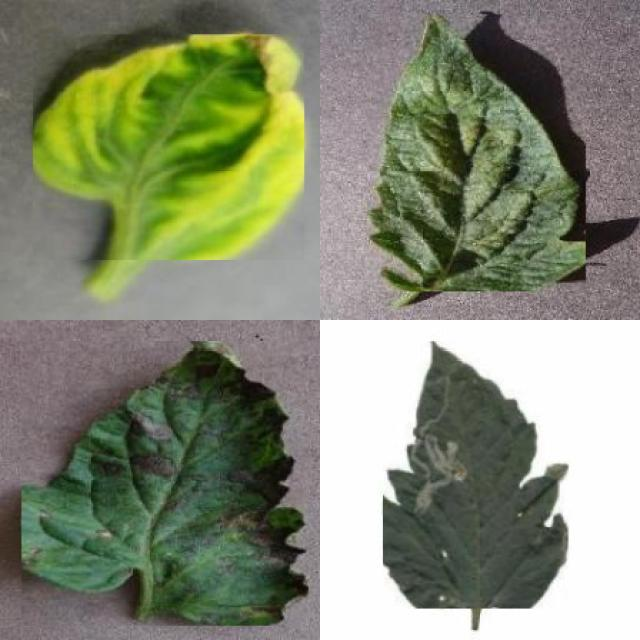Early Blight: (22, 340, 308, 626)
Leaf Miner: (383, 342, 568, 608)
Spider Mites: (367, 15, 586, 292)
Yellow Leaf Curl Virus: (34, 34, 305, 260)
